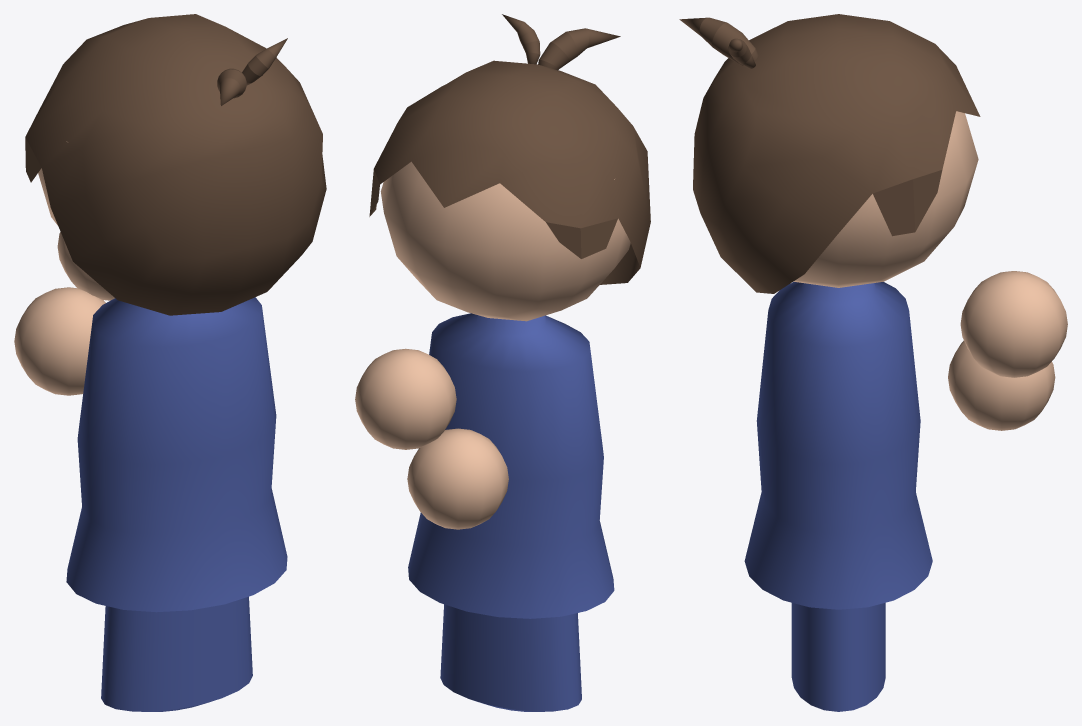
The model's file is BOI_Proto_Prop.fbx.
3 renders of one model, left to right at view 1: azimuth 30°, elevation 25°; view 2: azimuth 150°, elevation 25°; view 3: azimuth 270°, elevation 25°, orthographic. The views are drawn at different scales.
Visible parts, largest first — view 1: polySurface15, polySurface13, polySurface12, polySurface14; view 2: polySurface13, polySurface15, polySurface14, polySurface12; view 3: polySurface13, polySurface15, polySurface14, polySurface12.
Boxes of the visible parts, x1,y1,x2,y2 form: polySurface15: (66, 297, 287, 711); polySurface13: (25, 14, 326, 315); polySurface12: (14, 287, 105, 395); polySurface14: (57, 232, 114, 300); polySurface13: (369, 14, 650, 321); polySurface15: (408, 313, 614, 711); polySurface14: (355, 348, 456, 449); polySurface12: (407, 428, 508, 529); polySurface13: (679, 14, 980, 293); polySurface15: (744, 282, 932, 711); polySurface14: (960, 271, 1067, 377); polySurface12: (948, 340, 1055, 430).
Size of the model in its own units: 1.24 by 3.17 by 1.67.
